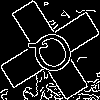Q: (25, 25, 84, 87)
